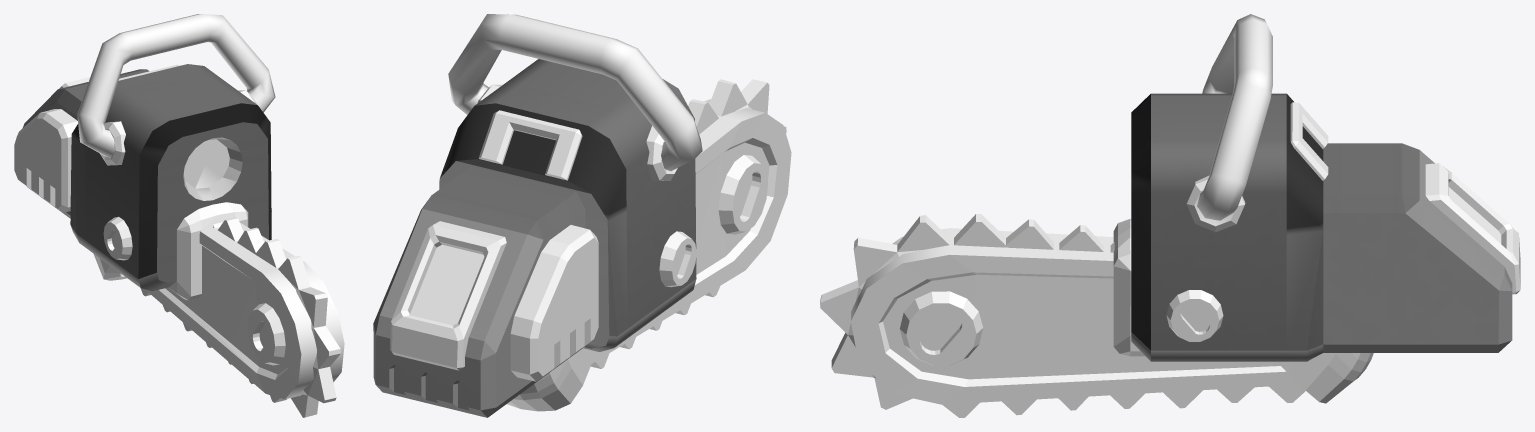
3 renders of one model, left to right at view 1: azimuth 30°, elevation 25°; view 2: azimuth 150°, elevation 25°; view 3: azimuth 270°, elevation 25°, orthographic. The views are drawn at different scales.
Parts seen in each view (by area): view 1: Weap_Weap4group1; view 2: Weap_Weap4group1; view 3: Weap_Weap4group1.
Boxes of the visible parts, left/top/right/bottom form: Weap_Weap4group1: left=14, top=14, right=344, bottom=417; Weap_Weap4group1: left=373, top=14, right=791, bottom=417; Weap_Weap4group1: left=820, top=14, right=1520, bottom=417.
Size of the model in its own units: 6.36 by 9.32 by 15.94.
